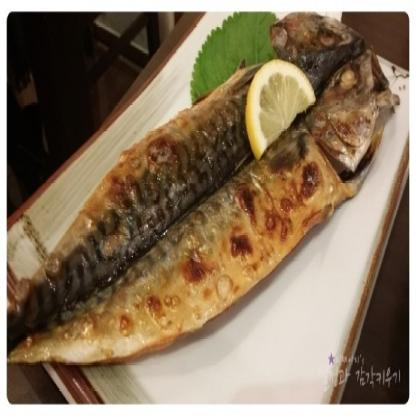Peixe: (7, 13, 397, 378)
